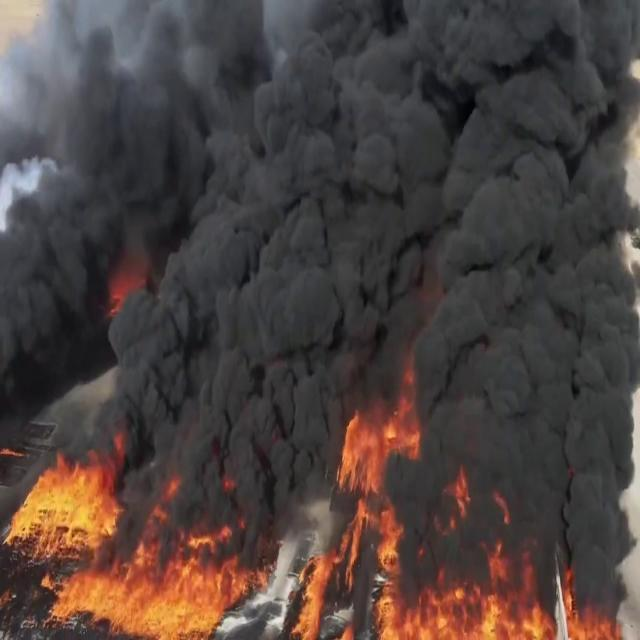Fire: (295, 386, 467, 640), (70, 533, 270, 638), (488, 518, 640, 638), (17, 456, 142, 570)
Smoke: (0, 4, 638, 548)
